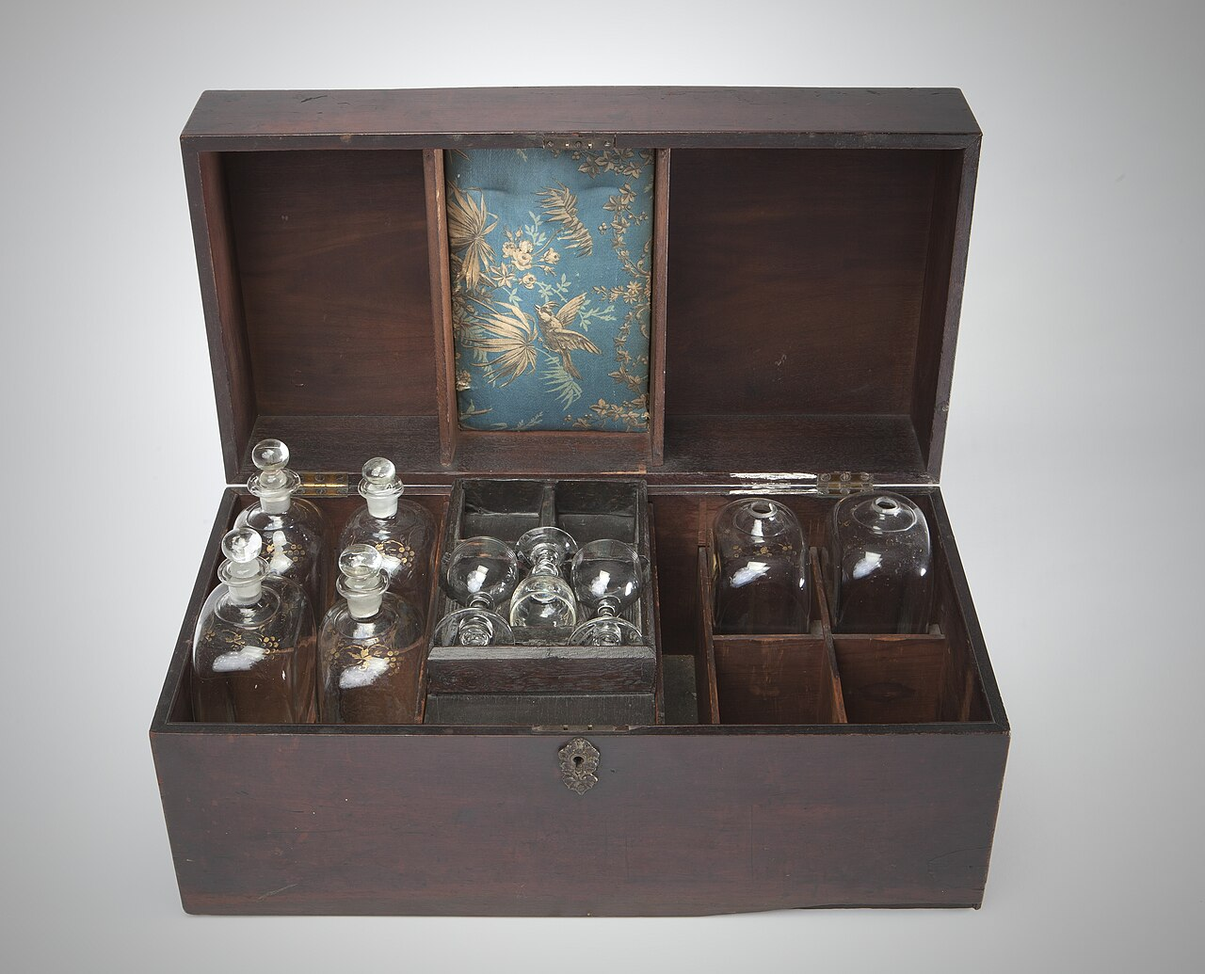unknown_bottle: (191, 528, 316, 726), (316, 544, 427, 726), (230, 439, 326, 626), (333, 456, 434, 618)
